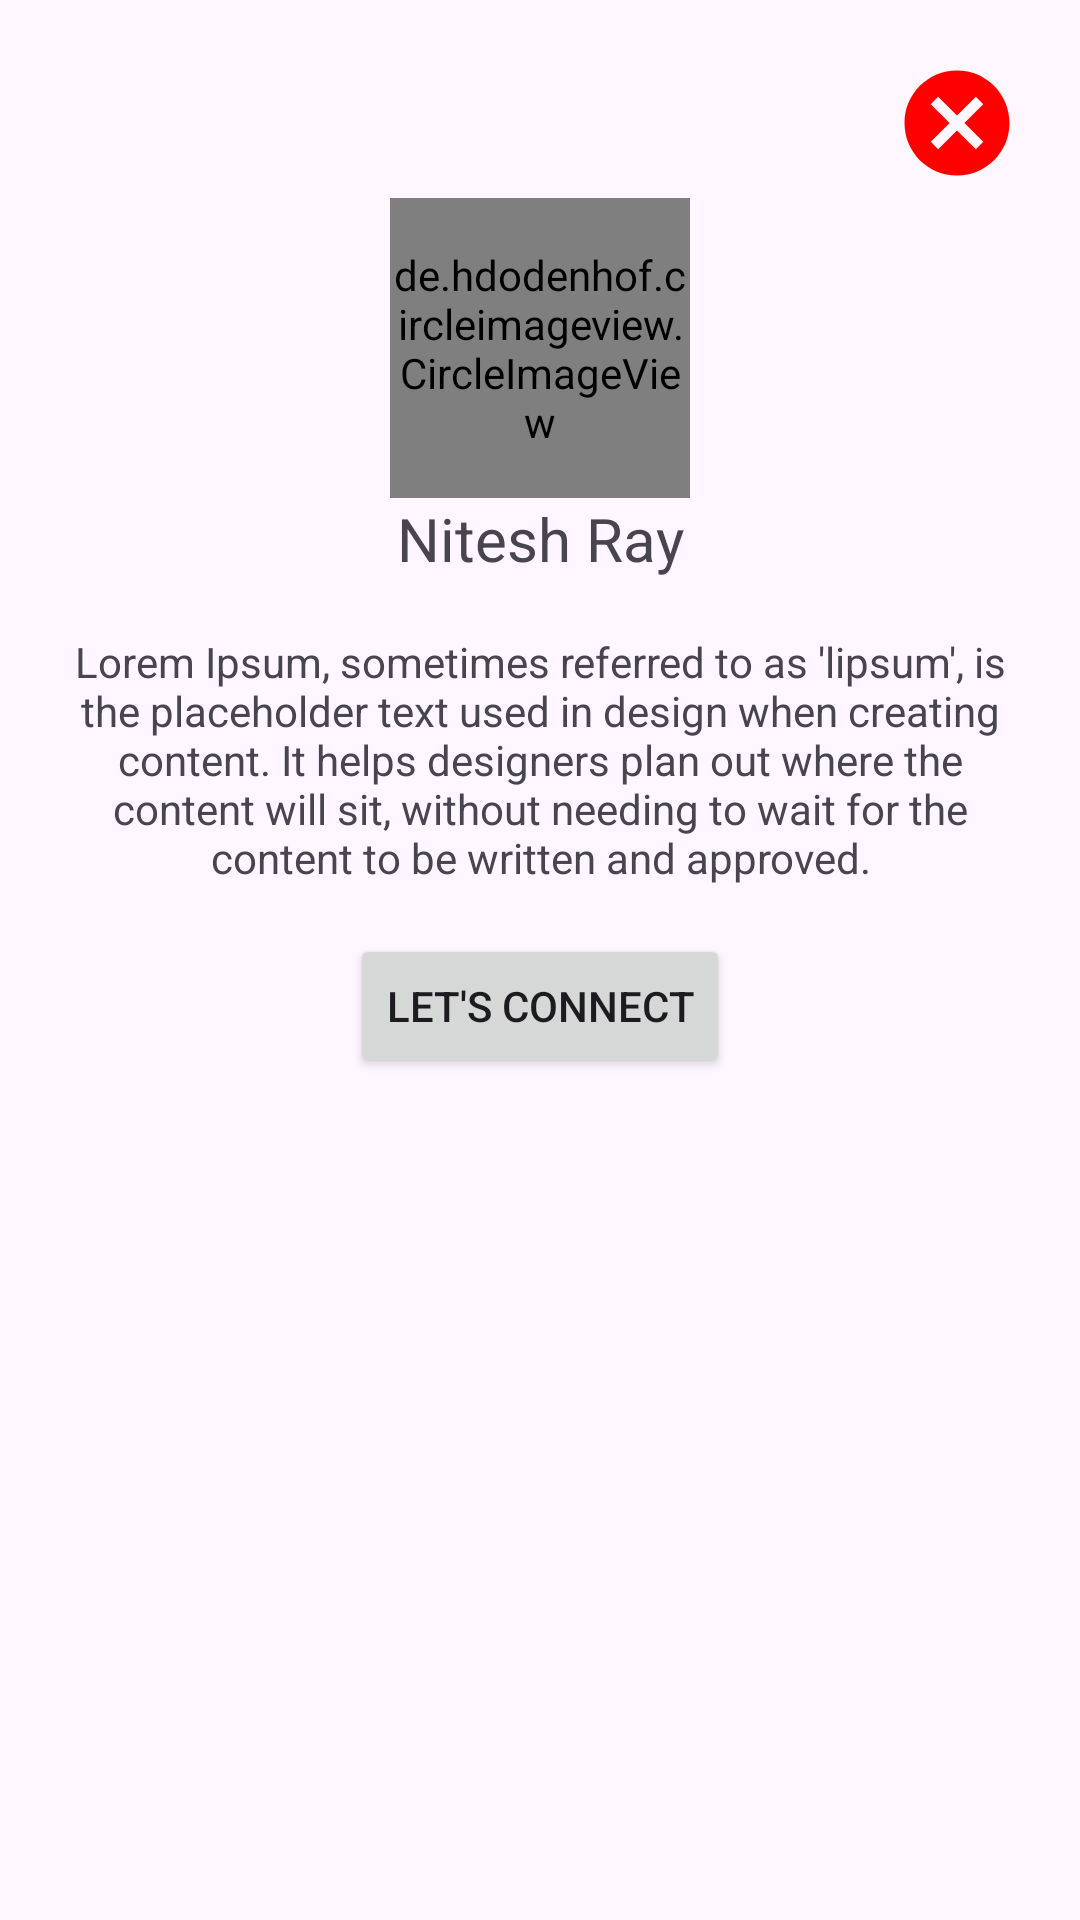

Locate icon controls on the screen. Image size 1080px×1920px, boxes as (left=x1, top=y1, right=x2, bottom=y2).
Cancel Button: (left=904, top=70, right=1010, bottom=176)
